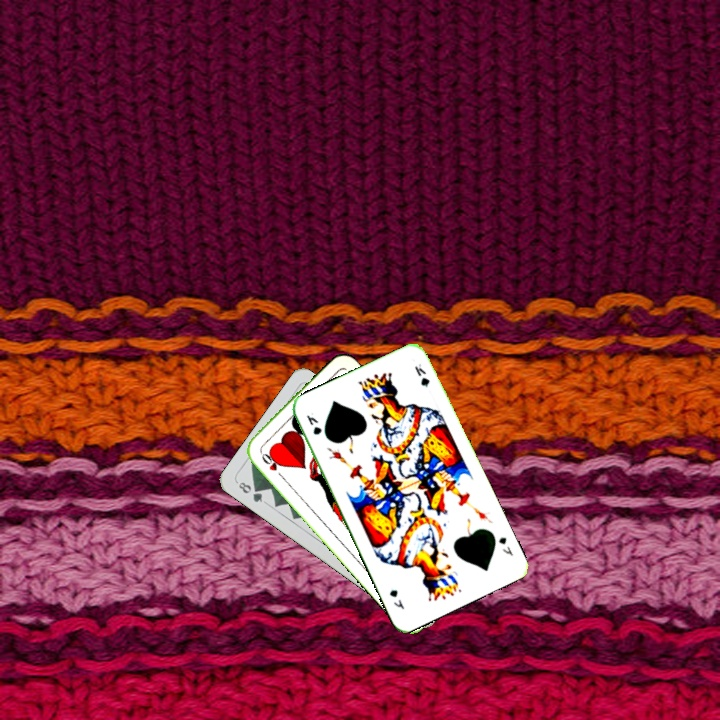G8: (234, 478, 265, 505)
GK: (303, 411, 325, 437), (494, 533, 516, 559)
HO: (255, 445, 285, 480)
